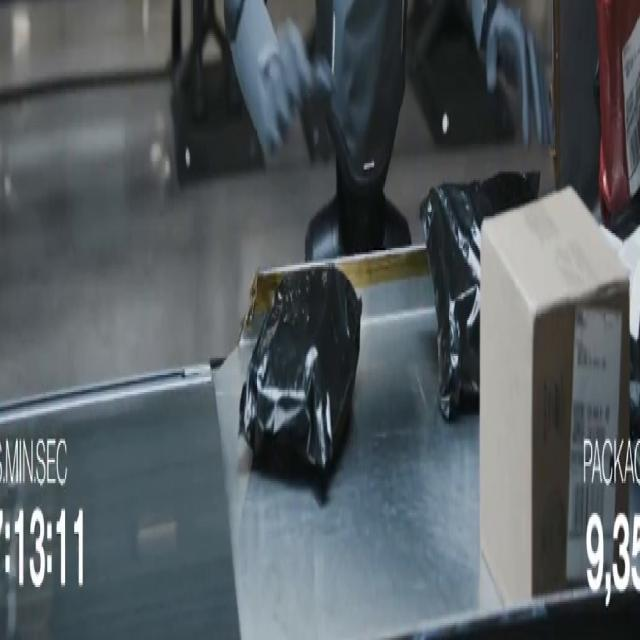package: (480, 189, 633, 606), (420, 172, 540, 419), (240, 265, 362, 478), (597, 0, 639, 220), (601, 202, 639, 440), (611, 215, 639, 440)
